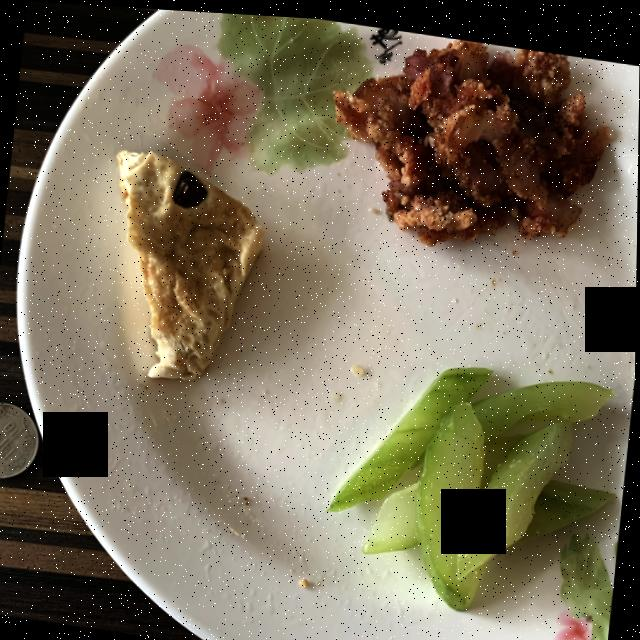coin: (0, 401, 40, 477)
red grilled pork: (334, 32, 610, 239)
